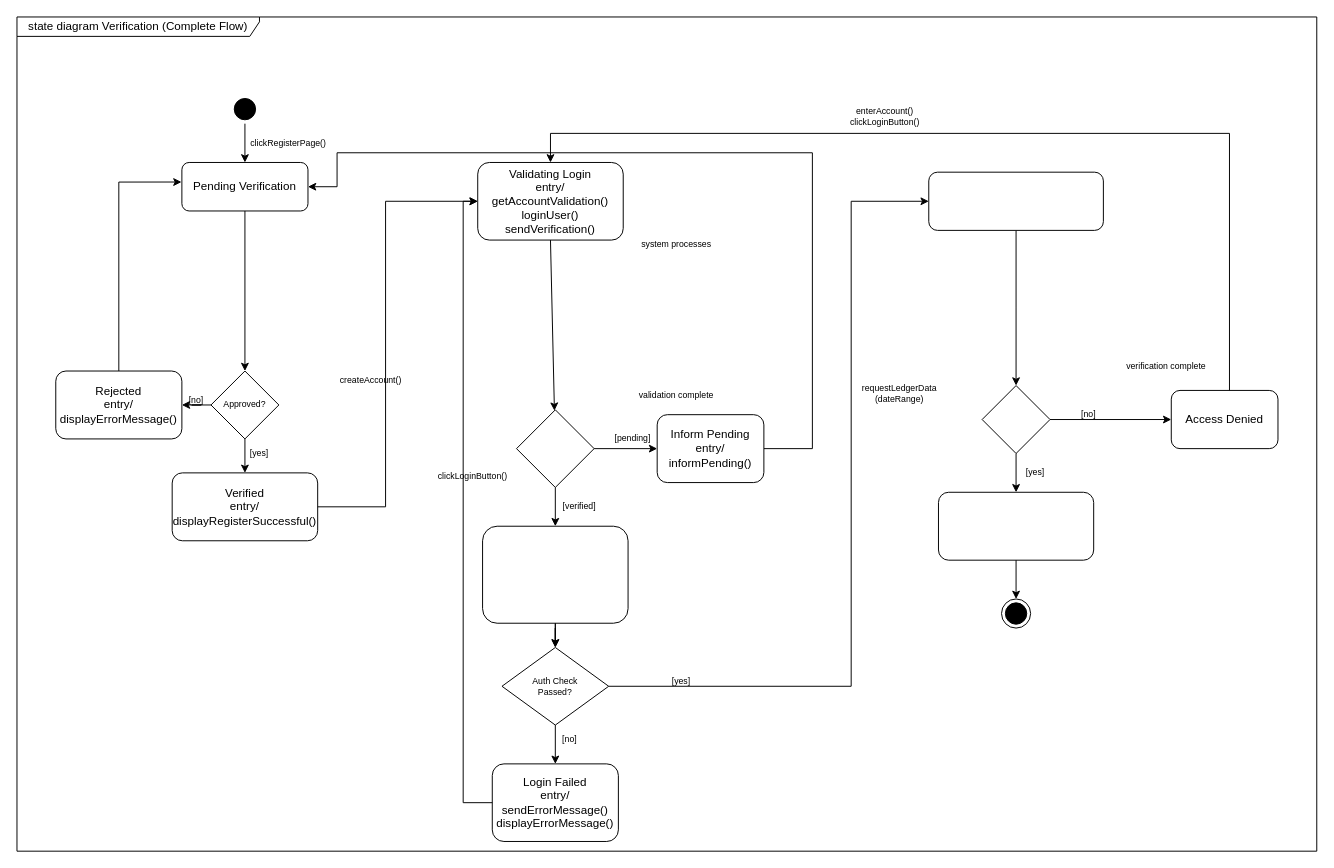
Some shapes in this 1334 by 868 pixel diagram are drawn without their labels. The centre of each missing label's shape, as x and y in pixels:
"Accessing System Feature Verifying Request entry/ verifyRequestAuthenticity()" belongs at (x=1015, y=200).
"Authenticated entry/ validateInfo() authenticateUser() displaySuccessMessage()" belongs at (x=555, y=574).
"Feature Access Granted entry/ verificationResult()" belongs at (x=1016, y=525).
"Request Verified?" belongs at (x=1015, y=419).
"Validation Success?" belongs at (x=555, y=448).
